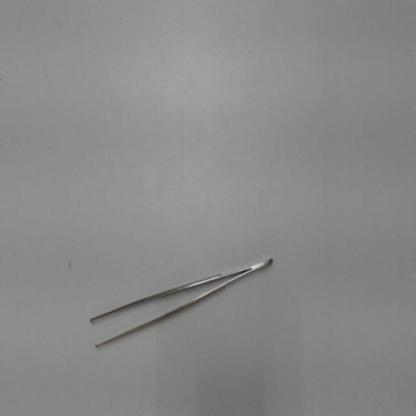Gillies Toothed Dissector: (84, 252, 280, 357)
